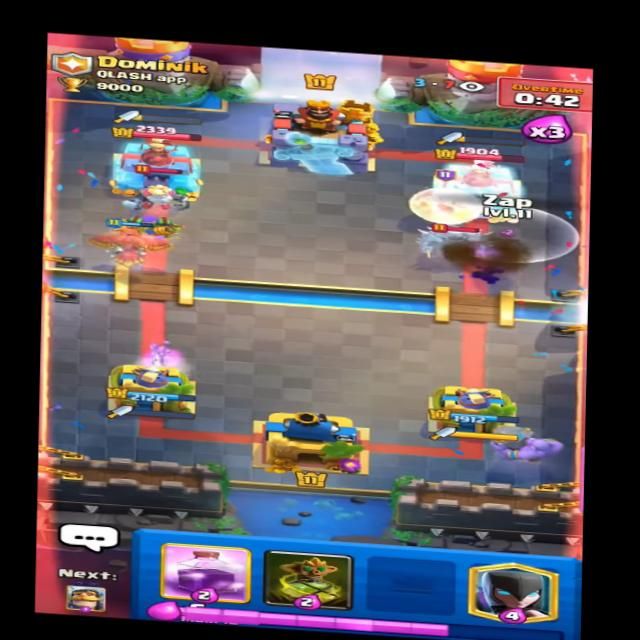Evowizard: (406, 170, 496, 231)
Pekka: (419, 218, 499, 265)
Royalghost: (126, 159, 200, 216)
